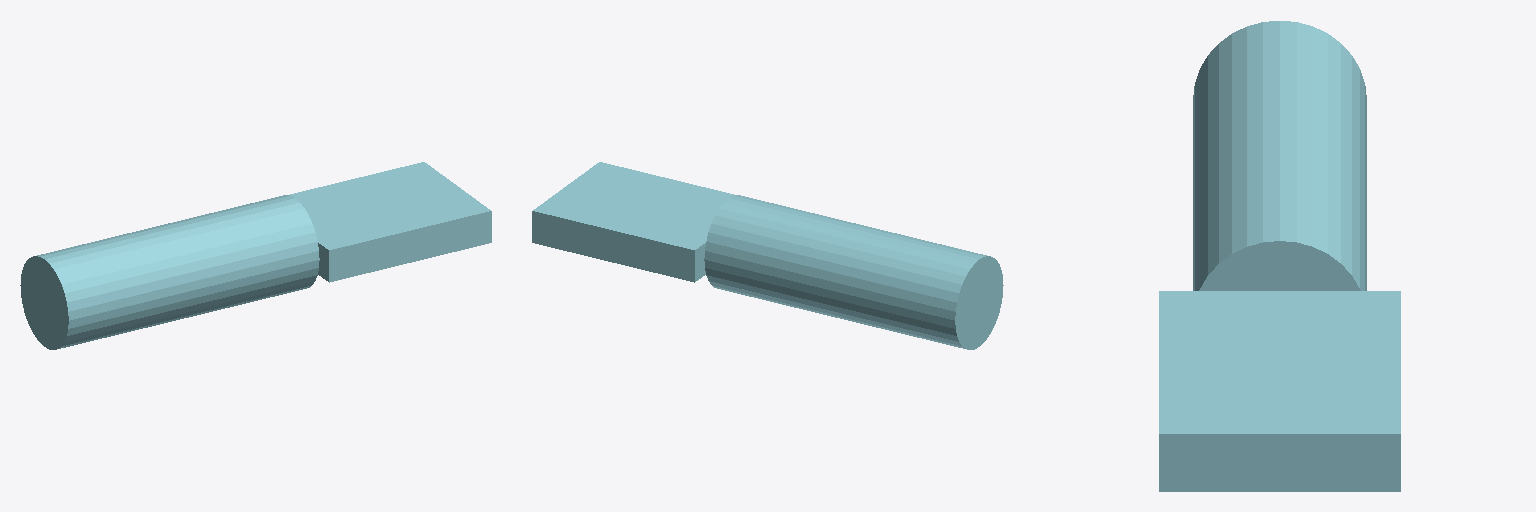
robot.urdf — cylinder_spatula_v6012:
<?xml version="1.0"?>
<robot name="cylinder_spatula_v6012">

  <link name="cylinder_spatula_v6012">
    <!-- Handle -->
    <visual>
      <origin xyz="0 0 0" rpy="0 1.5707963267948966 0"/>
      <geometry>
        <cylinder length="0.1489699741816906" radius="0.024819252118686578"/>
      </geometry>
      <material name="material">
        <color rgba="0.639 0.847 0.882 1.0"/>
      </material>
    </visual>
    <collision>
      <origin xyz="0 0 0" rpy="0 1.5707963267948966 0"/>
      <geometry>
        <cylinder length="0.1489699741816906" radius="0.024819252118686578"/>
      </geometry>
    </collision>

    <!-- Head -->
    <visual>
      <origin xyz="0.12273365990052795 0 0" rpy="0 0 0"/>
      <geometry>
        <box size="0.0964973456193653 0.06911667916295361 0.0182315200438812"/>
      </geometry>
      <material name="material">
        <color rgba="0.639 0.847 0.882 1.0"/>
      </material>
    </visual>
    <collision>
      <origin xyz="0.12273365990052795 0 0" rpy="0 0 0"/>
      <geometry>
        <box size="0.0964973456193653 0.06911667916295361 0.0182315200438812"/>
      </geometry>
    </collision>

    <inertial>
      <density value="400.0"/>
    </inertial>
  </link>

</robot>

--- Facts derived from the render (not from the file) ---
Views: 3 orthographic renders of the robot side by side, from view 1: azimuth 30°, elevation 25°; view 2: azimuth 150°, elevation 25°; view 3: azimuth 270°, elevation 25°.
Model cylinder_spatula_v6012 with 1 links and 0 joints (none), rooted at cylinder_spatula_v6012, posed all joints at 0.
Links seen in each view (by area): view 1: cylinder_spatula_v6012; view 2: cylinder_spatula_v6012; view 3: cylinder_spatula_v6012.
Boxes of the visible links, <box> form: cylinder_spatula_v6012: <box>20,162,491,349</box>; cylinder_spatula_v6012: <box>532,162,1003,349</box>; cylinder_spatula_v6012: <box>1159,21,1400,491</box>.
Bounding box of the posed robot: 0.2455 × 0.0691 × 0.0496 m (x, y, z).
Geometry: primitives only (box / cylinder / sphere), no mesh files.
